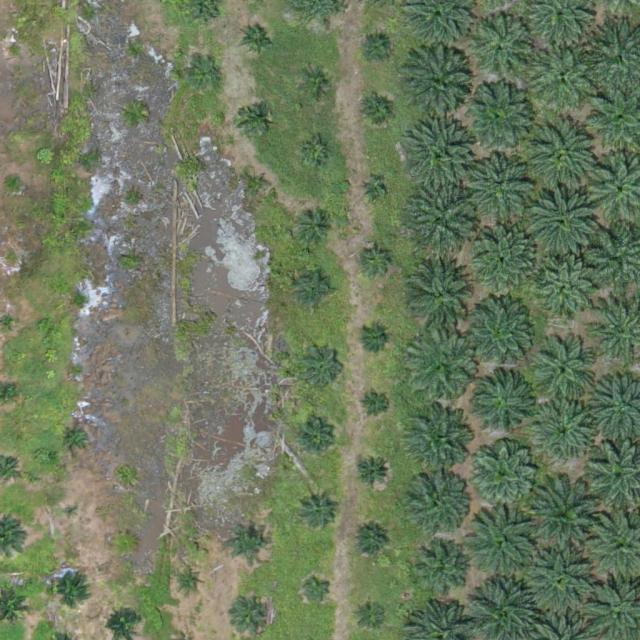Healthy: (529, 478, 607, 557), (525, 546, 596, 617), (469, 511, 540, 582), (406, 121, 477, 192), (529, 41, 600, 112), (466, 82, 536, 153), (470, 10, 540, 81), (529, 185, 599, 256), (464, 300, 535, 370), (468, 440, 538, 511), (404, 409, 474, 480), (408, 335, 478, 406), (405, 52, 475, 122), (407, 185, 477, 255), (407, 257, 477, 327), (531, 119, 601, 189), (475, 227, 538, 290), (534, 343, 597, 406), (407, 470, 470, 533), (473, 156, 535, 219), (536, 261, 598, 324), (475, 372, 537, 435), (535, 401, 597, 463), (414, 543, 469, 598)
Small: (300, 342, 347, 389), (229, 522, 269, 562), (51, 567, 90, 607), (297, 209, 336, 249), (297, 422, 337, 461), (241, 20, 280, 60), (353, 453, 393, 492), (236, 595, 275, 634), (297, 270, 336, 309), (298, 491, 337, 530), (352, 523, 391, 562), (361, 245, 392, 277), (356, 596, 387, 628), (303, 572, 334, 604), (359, 322, 390, 354), (190, 63, 221, 94), (238, 103, 269, 134), (301, 138, 332, 169), (302, 70, 333, 101), (361, 390, 392, 421), (363, 33, 394, 64), (363, 97, 394, 128), (63, 424, 94, 455), (179, 570, 203, 594), (248, 174, 272, 198), (362, 179, 386, 203), (115, 532, 139, 556), (5, 42, 21, 58), (7, 173, 23, 188), (65, 504, 80, 519)
